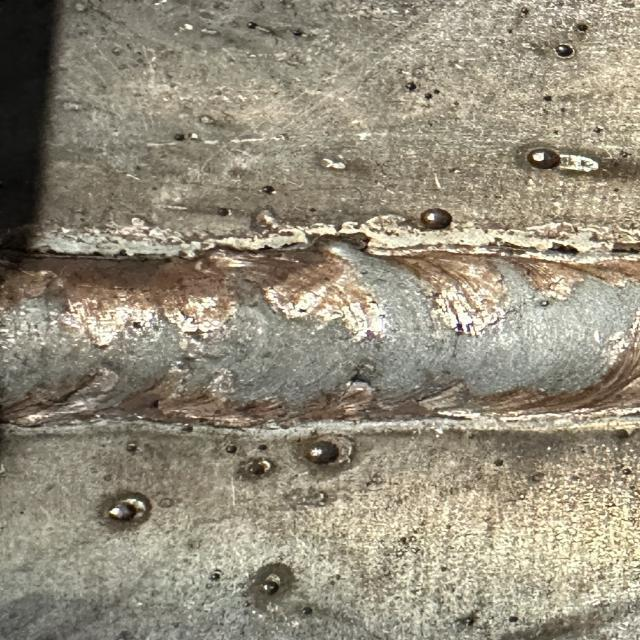Excess Reinforcement: (290, 233, 387, 262), (192, 245, 249, 263)
Spatters: (305, 441, 340, 464), (238, 458, 275, 478), (527, 149, 562, 169), (420, 209, 452, 230), (108, 502, 137, 520), (555, 44, 575, 58), (575, 22, 590, 32), (210, 569, 222, 581), (244, 20, 260, 29), (217, 208, 232, 216), (262, 185, 275, 194), (225, 445, 237, 454), (127, 442, 137, 452), (302, 606, 313, 615), (407, 82, 417, 91), (173, 134, 185, 141), (593, 126, 603, 134), (520, 8, 530, 15), (620, 151, 630, 158), (291, 30, 301, 36), (425, 92, 432, 100), (259, 444, 268, 450), (434, 90, 440, 94)
